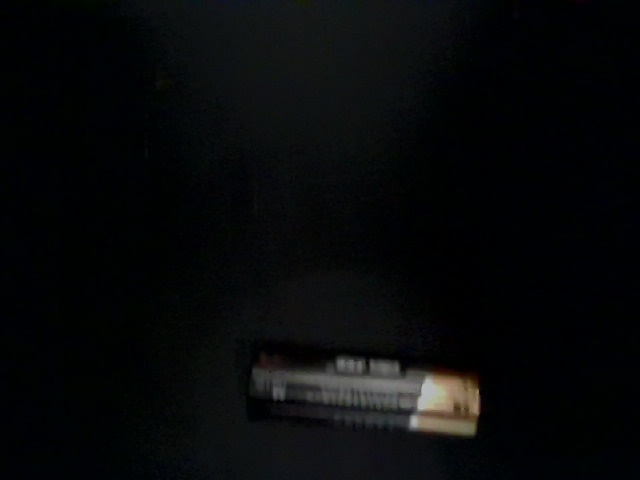YHLJ: (340, 135, 345, 138)
